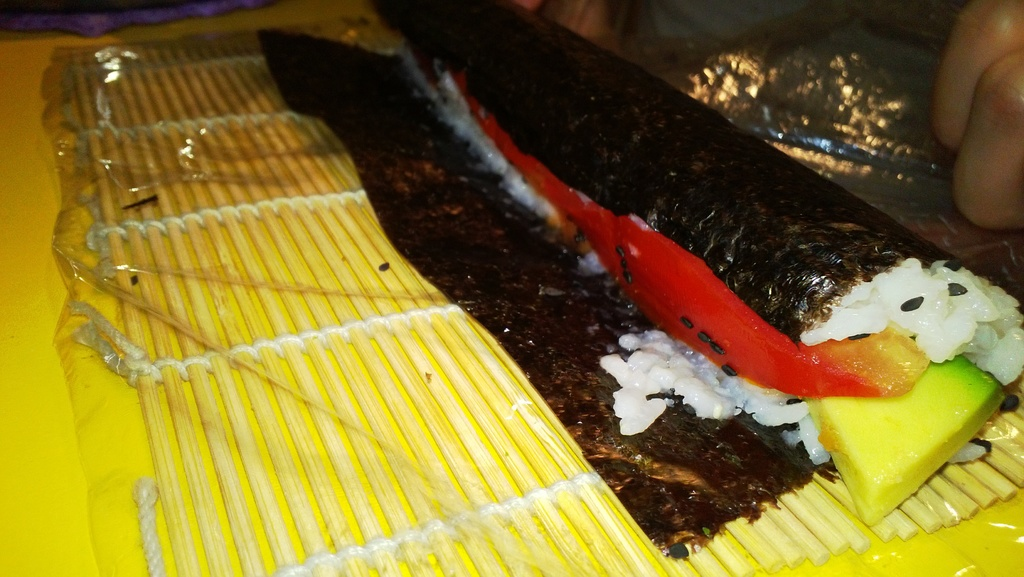sushi: (257, 1, 1021, 549)
